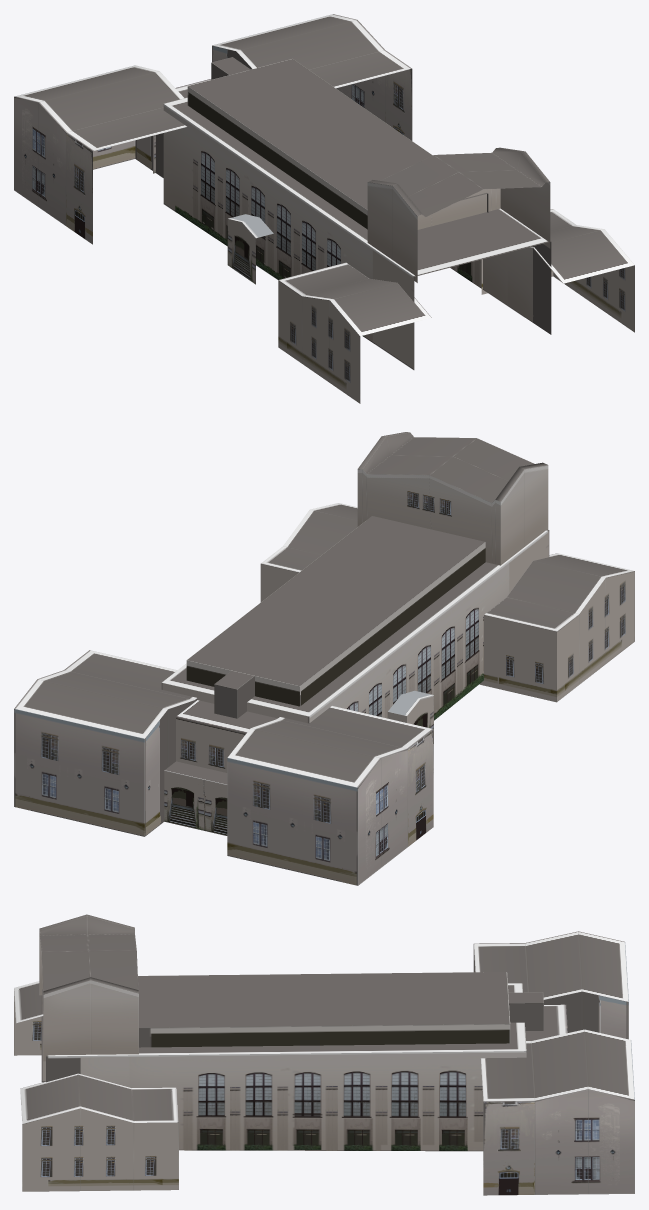
The model's file is Old_Auditorium.obj.
3 views of the same model, one above another, from view 1: azimuth 30°, elevation 25°; view 2: azimuth 150°, elevation 25°; view 3: azimuth 270°, elevation 25° (orthographic). The views are drawn at different scales.
Parts seen in each view (by area): view 1: Old_Auditorium_11_Mesh.001; view 2: Old_Auditorium_11_Mesh.001; view 3: Old_Auditorium_11_Mesh.001.
Boxes of the visible parts, x1,y1,x2,y2 form: Old_Auditorium_11_Mesh.001: (14, 14, 634, 403); Old_Auditorium_11_Mesh.001: (14, 432, 634, 885); Old_Auditorium_11_Mesh.001: (14, 914, 634, 1195).
Size of the model in its own units: 0.0257 by 0.0132 by 0.0421.
Materials: 1 (1 with a texture image).
